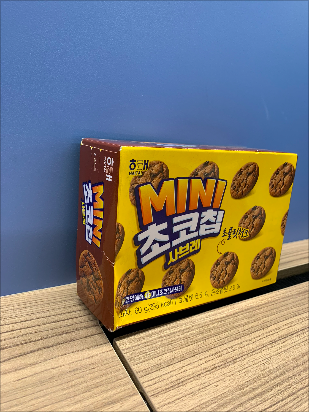Cookies_1-99g: (93, 152, 276, 304)
